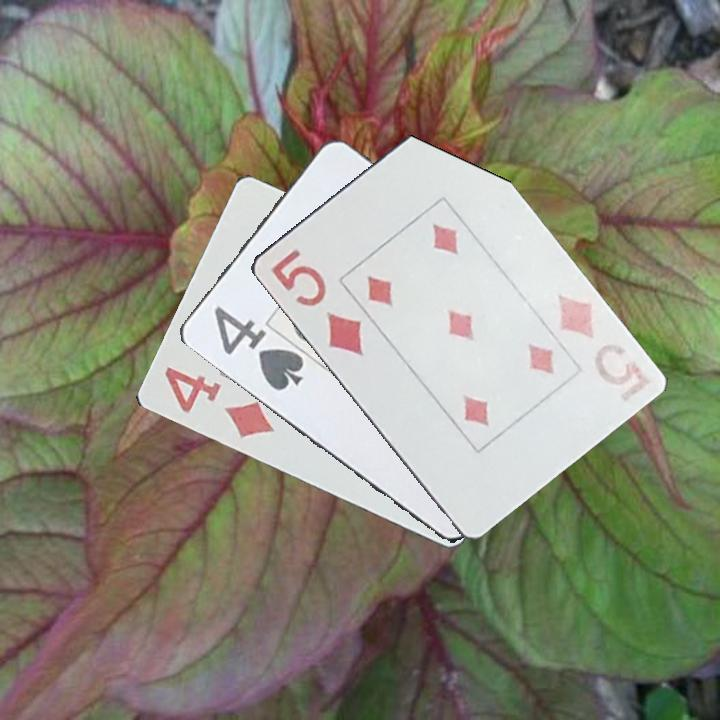4d: (160, 363, 277, 443)
4s: (209, 302, 307, 394)
5d: (267, 245, 367, 359), (553, 290, 639, 389)
